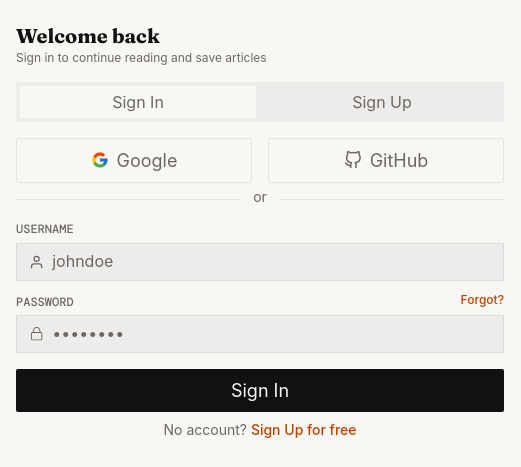
Scenario: SignInForm component › Form Validation › should display validation error when username contains invalid characters
Type "user@name!" into the field labelled "USERNAME".
click(272, 262); type("user@name!")  # box [52,252,491,272]
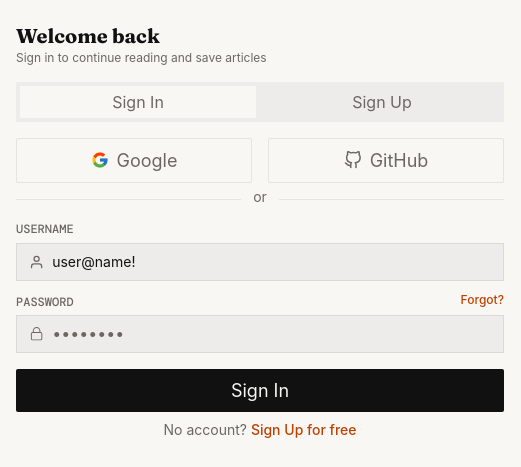
Type "validPassword123" into the password field labelled "PASSWORD".
click(272, 334); type("validPassword123")  # box [52,324,491,344]
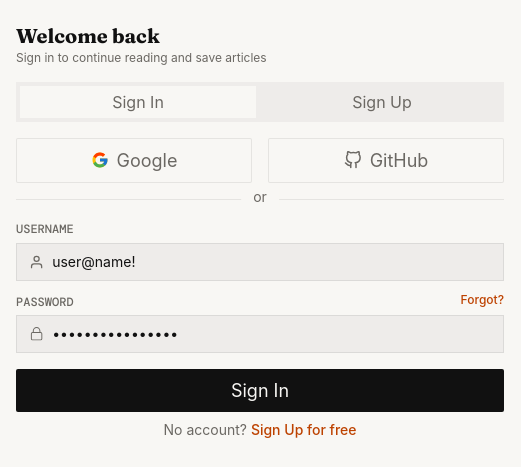
Click the button "Sign In".
click(260, 391)  # box [16,369,504,412]
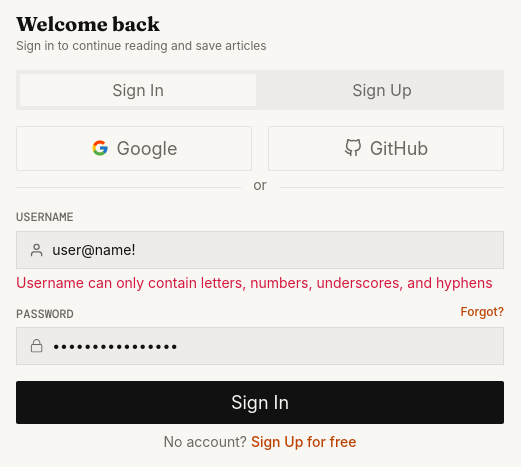
Expected: the text "Username can only contain letters, numbers, underscores, and hyphens" is shown, [16,273,504,293]
